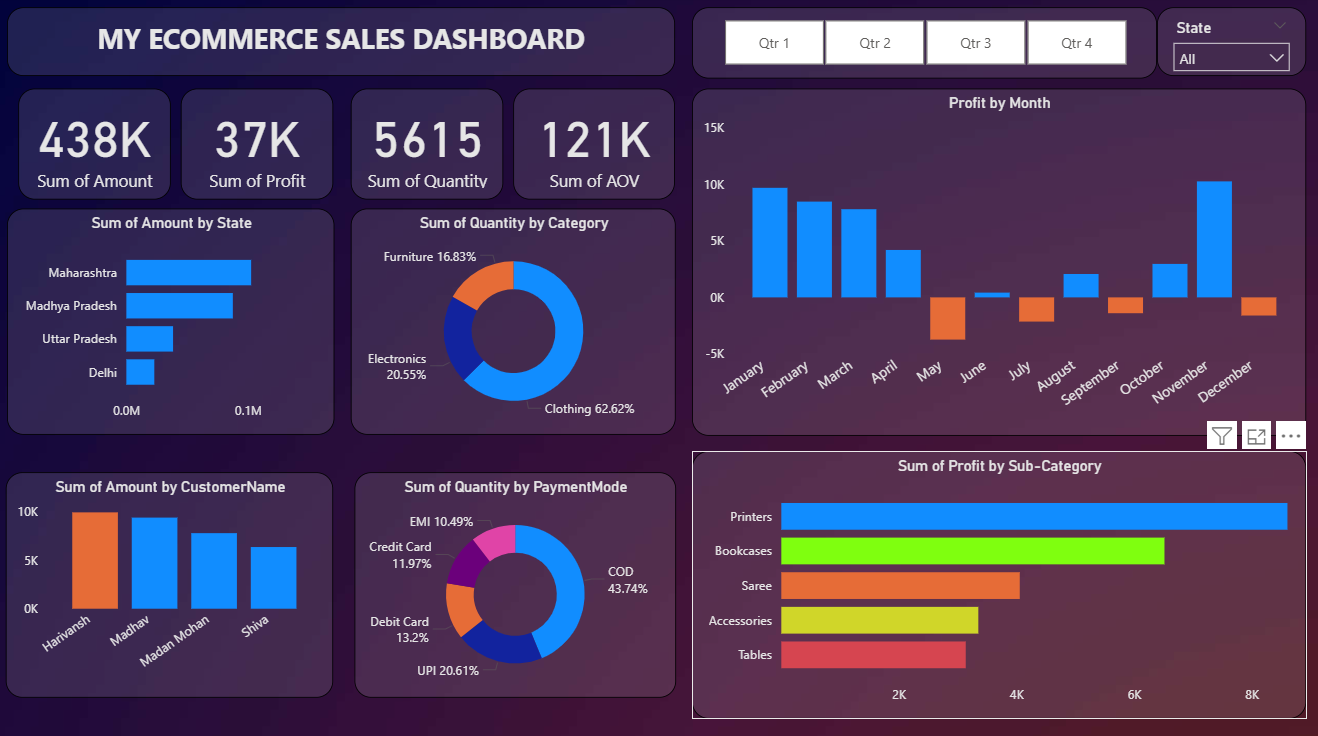

This screenshot's page, from the dashboard's own definition file:
{"tool":"powerbi","page":{"name":"Page 1","canvas":[1280,720],"ordinal":0},"visuals":[{"type":"textbox","box":[10,11.2,645,66.2],"z":0},{"type":"columnChart","title":"Profit by Month","fields":{"Y":["Details.Profit"],"Category":["Orders.Order Date.Variation.Date Hierarchy.Month"]},"box":[671.2,88.8,592.5,335],"z":1000},{"type":"clusteredBarChart","fields":{"Y":["Details.Profit"],"Category":["Details.Sub-Category"]},"box":[671.2,438.8,592.5,258.8],"z":2000},{"type":"donutChart","fields":{"Y":["Details.Quantity"],"Category":["Details.Category"]},"box":[341.2,205,313.8,218.8],"z":3000},{"type":"clusteredBarChart","fields":{"Category":["Orders.State"],"Y":["Details.Amount"]},"box":[10,205,316.2,218.8],"z":4000},{"type":"donutChart","fields":{"Y":["Details.Quantity"],"Category":["Details.PaymentMode"]},"box":[345,460,310,217.5],"z":5000},{"type":"clusteredColumnChart","fields":{"Category":["Orders.CustomerName"],"Y":["Details.Amount"]},"box":[8.8,460,316.2,217.5],"z":6000},{"type":"card","fields":{"Values":["Details.Amount"]},"box":[20,88.8,147.5,107.5],"z":7000},{"type":"card","fields":{"Values":["Details.Profit"]},"box":[177.5,88.8,147.5,107.5],"z":8000},{"type":"card","fields":{"Values":["Details.Quantity"]},"box":[341.2,88.8,147.5,107.5],"z":9000},{"type":"card","fields":{"Values":["Details.AOV"]},"box":[498.8,88.8,156.2,107.5],"z":10000},{"type":"slicer","fields":{"Values":["Orders.Order Date.Variation.Date Hierarchy.Quarter"]},"box":[671.2,11.2,448.8,68.8],"z":11000},{"type":"slicer","fields":{"Values":["Orders.State"]},"box":[1120,11.2,143.8,66.2],"z":11001}]}

Visuals, with their boxes in screenshot pixels (x1, y1, x2, y2), scaled from the page's 1280x720 canvas onto the 1318x736 screenshot:
textbox: box(10, 11, 674, 79)
"Profit by Month" columnChart: box(691, 91, 1301, 433)
clusteredBarChart - Details.Profit x Details.Sub-Category: box(691, 449, 1301, 713)
donutChart - Details.Quantity x Details.Category: box(351, 210, 674, 433)
clusteredBarChart - Orders.State x Details.Amount: box(10, 210, 336, 433)
donutChart - Details.Quantity x Details.PaymentMode: box(355, 470, 674, 693)
clusteredColumnChart - Orders.CustomerName x Details.Amount: box(9, 470, 335, 693)
card - Details.Amount: box(21, 91, 172, 201)
card - Details.Profit: box(183, 91, 335, 201)
card - Details.Quantity: box(351, 91, 503, 201)
card - Details.AOV: box(514, 91, 674, 201)
slicer - Orders.Order Date.Variation.Date Hierarchy.Quarter: box(691, 11, 1153, 82)
slicer - Orders.State: box(1153, 11, 1301, 79)
